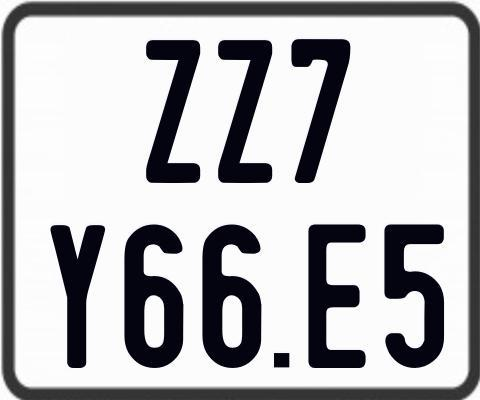5: (381, 224, 441, 370)
6: (199, 222, 264, 367), (122, 223, 187, 367)
7: (291, 38, 356, 187)
E: (306, 224, 370, 374)
Y: (49, 225, 104, 374)
Z: (143, 37, 203, 186), (217, 37, 274, 181)
